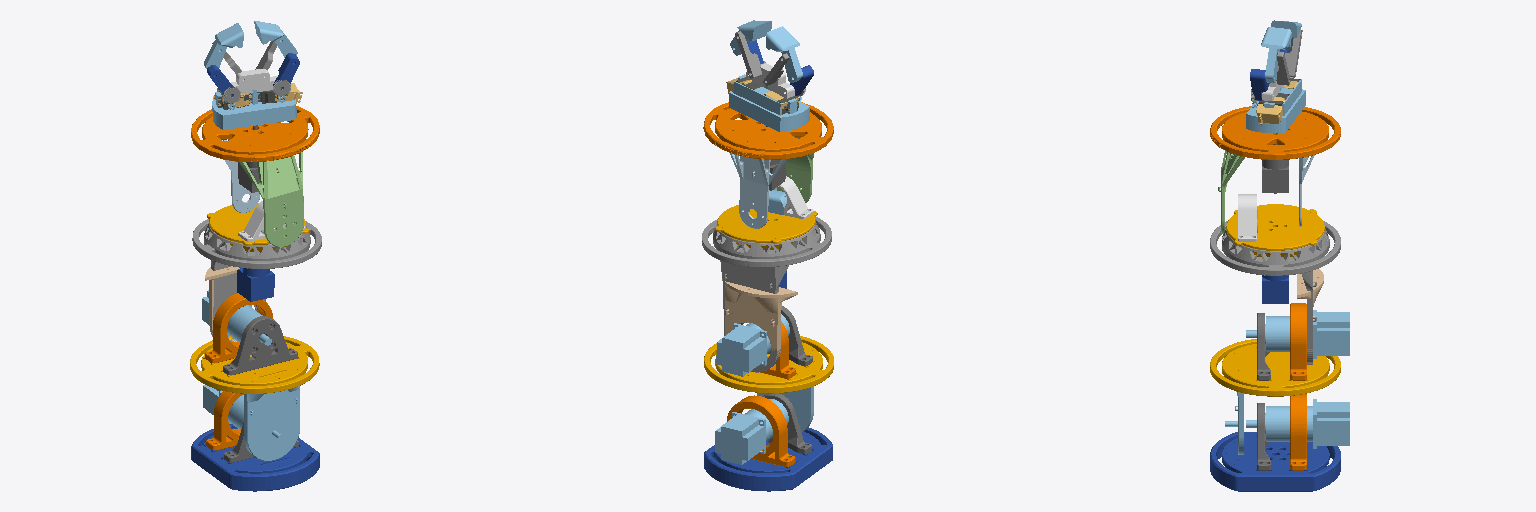
--- Render facts (derived) ---
Views: 3 orthographic renders of the robot side by side, from view 1: azimuth 30°, elevation 25°; view 2: azimuth 150°, elevation 25°; view 3: azimuth 270°, elevation 25°.
Model robot with 11 links and 10 joints (8 revolute, 2 fixed), rooted at world, posed every joint at zero.
Links seen in each view (by area): view 1: ob1_arm_shoulder_link, ob1_arm_forearm_link, ob1_arm_base_link, ob1_arm_arm_link, ob1_arm_gripper_base_link, ob1_arm_elbow_link, ob1_arm_rclaw_link, ob1_arm_lclaw_link; view 2: ob1_arm_shoulder_link, ob1_arm_base_link, ob1_arm_forearm_link, ob1_arm_arm_link, ob1_arm_gripper_base_link, ob1_arm_elbow_link, ob1_arm_lclaw_link, ob1_arm_rclaw_link; view 3: ob1_arm_base_link, ob1_arm_shoulder_link, ob1_arm_forearm_link, ob1_arm_arm_link, ob1_arm_elbow_link, ob1_arm_gripper_base_link, ob1_arm_rclaw_link, ob1_arm_lclaw_link.
Link boxes in pixels (x1,y1,x2,y2): ob1_arm_shoulder_link: [190, 266, 319, 460]; ob1_arm_forearm_link: [191, 106, 319, 246]; ob1_arm_base_link: [191, 385, 319, 491]; ob1_arm_arm_link: [192, 219, 321, 341]; ob1_arm_gripper_base_link: [212, 69, 302, 129]; ob1_arm_elbow_link: [207, 201, 308, 251]; ob1_arm_rclaw_link: [254, 21, 299, 89]; ob1_arm_lclaw_link: [204, 23, 243, 96]; ob1_arm_shoulder_link: [704, 279, 833, 432]; ob1_arm_base_link: [704, 393, 832, 491]; ob1_arm_forearm_link: [703, 102, 833, 228]; ob1_arm_arm_link: [702, 217, 831, 372]; ob1_arm_gripper_base_link: [726, 61, 809, 131]; ob1_arm_elbow_link: [715, 176, 817, 249]; ob1_arm_lclaw_link: [763, 26, 813, 95]; ob1_arm_rclaw_link: [730, 20, 771, 78]; ob1_arm_base_link: [1210, 394, 1349, 491]; ob1_arm_shoulder_link: [1210, 269, 1349, 454]; ob1_arm_forearm_link: [1210, 106, 1340, 233]; ob1_arm_arm_link: [1210, 221, 1340, 364]; ob1_arm_elbow_link: [1226, 194, 1324, 256]; ob1_arm_gripper_base_link: [1246, 77, 1305, 133]; ob1_arm_rclaw_link: [1250, 27, 1291, 100]; ob1_arm_lclaw_link: [1271, 20, 1302, 77].
Size in the robot's own frame: 0.2045 by 0.2135 by 0.7468 metres.
Meshes: 33 distinct files referenced, 37 mesh visuals loaded (32 binary STL); not drawn: 1 (reference not matched to a file when rendering).

URDF robot description (robot):
<?xml version="1.0" ?>
<!-- =================================================================================== -->
<!-- |    This document was autogenerated by xacro from [local-path]/UBCOpenRobotics/ob1_arm/src/ob1_arm_description/urdf/main.xacro | -->
<!-- |    EDITING THIS FILE BY HAND IS NOT RECOMMENDED                                 | -->
<!-- =================================================================================== -->
<robot name="robot">
    <link name="ob1_arm_fixed_base_link">
        <inertial>
            <origin rpy="0 0 0" xyz="0 0 0" />
            <mass value="0" />
            <inertia ixx="0" ixy="0" ixz="0" iyy="0" iyz="0" izz="0" />
        </inertial>
    </link>
    <link name="ob1_arm_base_link">
        <visual>
            <origin rpy="-1.5708 1.21431e-16 3.90606e-18" xyz="3.31402e-16 -0.0195 0.06" />
            <geometry>
                <mesh filename="package://ob1_arm_description/meshes/shoulder_y_motor.stl" />
            </geometry>
            <material name="shoulder_y_motor_material">
                <color rgba="0.615686 0.811765 0.929412 1.0" />
            </material>
        </visual>
        <collision>
            <origin rpy="-1.5708 1.21431e-16 3.90606e-18" xyz="3.31402e-16 -0.0195 0.06" />
            <geometry>
                <mesh filename="package://ob1_arm_description/meshes/shoulder_y_motor.stl" />
            </geometry>
            <material name="shoulder_y_motor_material">
                <color rgba="0.615686 0.811765 0.929412 1.0" />
            </material>
        </collision>
        <visual>
            <origin rpy="-1.5708 1.2013e-16 2.92997e-21" xyz="1.33481e-16 -0.0195 0.06" />
            <geometry>
                <mesh filename="package://ob1_arm_description/meshes/shoulder_plate.stl" />
            </geometry>
            <material name="shoulder_plate_material">
                <color rgba="0.231373 0.380392 0.705882 1.0" />
            </material>
        </visual>
        <collision>
            <origin rpy="-1.5708 1.2013e-16 2.92997e-21" xyz="1.33481e-16 -0.0195 0.06" />
            <geometry>
                <mesh filename="package://ob1_arm_description/meshes/shoulder_plate.stl" />
            </geometry>
            <material name="shoulder_plate_material">
                <color rgba="0.231373 0.380392 0.705882 1.0" />
            </material>
        </collision>
        <visual>
            <origin rpy="-1.5708 1.20997e-16 7.25353e-18" xyz="3.46418e-16 -0.0195 0.06" />
            <geometry>
                <mesh filename="package://ob1_arm_description/meshes/motor_front_support_-_shoulder.stl" />
            </geometry>
            <material name="motor_front_support_-_shoulder_material">
                <color rgba="0.498039 0.498039 0.498039 1.0" />
            </material>
        </visual>
        <collision>
            <origin rpy="-1.5708 1.20997e-16 7.25353e-18" xyz="3.46418e-16 -0.0195 0.06" />
            <geometry>
                <mesh filename="package://ob1_arm_description/meshes/motor_front_support_-_shoulder.stl" />
            </geometry>
            <material name="motor_front_support_-_shoulder_material">
                <color rgba="0.498039 0.498039 0.498039 1.0" />
            </material>
        </collision>
        <visual>
            <origin rpy="-1.5708 1.2013e-16 2.92997e-21" xyz="-6.34937e-17 -0.0195 0.06" />
            <geometry>
                <mesh filename="package://ob1_arm_description/meshes/motor_mid_support_-_shoulder.stl" />
            </geometry>
            <material name="motor_mid_support_-_shoulder_material">
                <color rgba="0.972549 0.529412 0.00392157 1.0" />
            </material>
        </visual>
        <collision>
            <origin rpy="-1.5708 1.2013e-16 2.92997e-21" xyz="-6.34937e-17 -0.0195 0.06" />
            <geometry>
                <mesh filename="package://ob1_arm_description/meshes/motor_mid_support_-_shoulder.stl" />
            </geometry>
            <material name="motor_mid_support_-_shoulder_material">
                <color rgba="0.972549 0.529412 0.00392157 1.0" />
            </material>
        </collision>
        <inertial>
            <origin rpy="0 0 0" xyz="0 0 0" />
            <mass value="0" />
            <inertia ixx="0" ixy="0" ixz="0" iyy="0" iyz="0" izz="0" />
        </inertial>
    </link>
    <link name="ob1_arm_shoulder_link">
        <visual>
            <origin rpy="3.14159 -2.02376e-31 3.10097e-18" xyz="-2.59124e-17 0.15 0.067" />
            <geometry>
                <mesh filename="package://ob1_arm_description/meshes/shoulder_linkage_-_motor.stl" />
            </geometry>
            <material name="shoulder_linkage_-_motor_material">
                <color rgba="0.921569 0.8 0.654902 1.0" />
            </material>
        </visual>
        <collision>
            <origin rpy="3.14159 -2.02376e-31 3.10097e-18" xyz="-2.59124e-17 0.15 0.067" />
            <geometry>
                <mesh filename="package://ob1_arm_description/meshes/shoulder_linkage_-_motor.stl" />
            </geometry>
            <material name="shoulder_linkage_-_motor_material">
                <color rgba="0.921569 0.8 0.654902 1.0" />
            </material>
        </collision>
        <visual>
            <origin rpy="-3.14159 6.26309e-30 3.30936e-16" xyz="8.79071e-16 6.245e-16 0.067" />
            <geometry>
                <mesh filename="package://ob1_arm_description/meshes/bicep_y_motor.stl" />
            </geometry>
            <material name="bicep_y_motor_material">
                <color rgba="0.615686 0.811765 0.929412 1.0" />
            </material>
        </visual>
        <collision>
            <origin rpy="-3.14159 6.26309e-30 3.30936e-16" xyz="8.79071e-16 6.245e-16 0.067" />
            <geometry>
                <mesh filename="package://ob1_arm_description/meshes/bicep_y_motor.stl" />
            </geometry>
            <material name="bicep_y_motor_material">
                <color rgba="0.615686 0.811765 0.929412 1.0" />
            </material>
        </collision>
        <visual>
            <origin rpy="-3.14159 1.39936e-30 -2.98503e-17" xyz="1.03715e-15 1.04083e-15 0.067" />
            <geometry>
                <mesh filename="package://ob1_arm_description/meshes/motor_front_support_-_bicep.stl" />
            </geometry>
            <material name="motor_front_support_-_bicep_material">
                <color rgba="0.498039 0.498039 0.498039 1.0" />
            </material>
        </visual>
        <collision>
            <origin rpy="-3.14159 1.39936e-30 -2.98503e-17" xyz="1.03715e-15 1.04083e-15 0.067" />
            <geometry>
                <mesh filename="package://ob1_arm_description/meshes/motor_front_support_-_bicep.stl" />
            </geometry>
            <material name="motor_front_support_-_bicep_material">
                <color rgba="0.498039 0.498039 0.498039 1.0" />
            </material>
        </collision>
        <visual>
            <origin rpy="-3.14159 1.84829e-30 -7.32146e-17" xyz="1.05677e-15 1.06859e-15 0.067" />
            <geometry>
                <mesh filename="package://ob1_arm_description/meshes/bicep_plate_-_real.stl" />
            </geometry>
            <material name="bicep_plate_-_real_material">
                <color rgba="0.980392 0.713725 0.00392157 1.0" />
            </material>
        </visual>
        <collision>
            <origin rpy="-3.14159 1.84829e-30 -7.32146e-17" xyz="1.05677e-15 1.06859e-15 0.067" />
            <geometry>
                <mesh filename="package://ob1_arm_description/meshes/bicep_plate_-_real.stl" />
            </geometry>
            <material name="bicep_plate_-_real_material">
                <color rgba="0.980392 0.713725 0.00392157 1.0" />
            </material>
        </collision>
        <visual>
            <origin rpy="-3.14159 1.97023e-30 1.36668e-16" xyz="9.52797e-16 9.57567e-16 0.067" />
            <geometry>
                <mesh filename="package://ob1_arm_description/meshes/shoulder_linkage_-_encoder.stl" />
            </geometry>
            <material name="shoulder_linkage_-_encoder_material">
                <color rgba="0.615686 0.811765 0.929412 1.0" />
            </material>
        </visual>
        <collision>
            <origin rpy="-3.14159 1.97023e-30 1.36668e-16" xyz="9.52797e-16 9.57567e-16 0.067" />
            <geometry>
                <mesh filename="package://ob1_arm_description/meshes/shoulder_linkage_-_encoder.stl" />
            </geometry>
            <material name="shoulder_linkage_-_encoder_material">
                <color rgba="0.615686 0.811765 0.929412 1.0" />
            </material>
        </collision>
        <visual>
            <origin rpy="-3.14159 2.70566e-31 -7.32146e-17" xyz="1.11651e-15 1.05471e-15 0.067" />
            <geometry>
                <mesh filename="package://ob1_arm_description/meshes/motor_mid_support_-_bicep.stl" />
            </geometry>
            <material name="motor_mid_support_-_bicep_material">
                <color rgba="0.972549 0.529412 0.00392157 1.0" />
            </material>
        </visual>
        <collision>
            <origin rpy="-3.14159 2.70566e-31 -7.32146e-17" xyz="1.11651e-15 1.05471e-15 0.067" />
            <geometry>
                <mesh filename="package://ob1_arm_description/meshes/motor_mid_support_-_bicep.stl" />
            </geometry>
            <material name="motor_mid_support_-_bicep_material">
                <color rgba="0.972549 0.529412 0.00392157 1.0" />
            </material>
        </collision>
        <inertial>
            <origin rpy="0 0 0" xyz="0 0 0" />
            <mass value="0" />
            <inertia ixx="0" ixy="0" ixz="0" iyy="0" iyz="0" izz="0" />
        </inertial>
    </link>
    <link name="ob1_arm_arm_link">
        <visual>
            <origin rpy="-3.14159 0.18918 1.80411e-15" xyz="0.00366704 -1.27676e-15 0.0666521" />
            <geometry>
                <mesh filename="package://ob1_arm_description/meshes/forearm_z_motor_shaft_collar_-_9604t12_flange-mount_shaft_collar.stl" />
            </geometry>
            <material name="forearm_z_motor_shaft_collar_-_9604t12_flange-mount_shaft_collar_material">
                <color rgba="0.498039 0.498039 0.498039 1.0" />
            </material>
        </visual>
        <collision>
            <origin rpy="-3.14159 0.18918 1.80411e-15" xyz="0.00366704 -1.27676e-15 0.0666521" />
            <geometry>
                <mesh filename="package://ob1_arm_description/meshes/forearm_z_motor_shaft_collar_-_9604t12_flange-mount_shaft_collar.stl" />
            </geometry>
            <material name="forearm_z_motor_shaft_collar_-_9604t12_flange-mount_shaft_collar_material">
                <color rgba="0.498039 0.498039 0.498039 1.0" />
            </material>
        </collision>
        <visual>
            <origin rpy="-3.14159 2.13756e-29 -1.6944e-16" xyz="-2.13371e-15 -1.38778e-16 0.067" />
            <geometry>
                <mesh filename="package://ob1_arm_description/meshes/bicep_z_motor.stl" />
            </geometry>
            <material name="bicep_z_motor_material">
                <color rgba="0.231373 0.380392 0.705882 1.0" />
            </material>
        </visual>
        <collision>
            <origin rpy="-3.14159 2.13756e-29 -1.6944e-16" xyz="-2.13371e-15 -1.38778e-16 0.067" />
            <geometry>
                <mesh filename="package://ob1_arm_description/meshes/bicep_z_motor.stl" />
            </geometry>
            <material name="bicep_z_motor_material">
                <color rgba="0.231373 0.380392 0.705882 1.0" />
            </material>
        </collision>
        <visual>
            <origin rpy="-3.14159 2.13756e-29 -1.6944e-16" xyz="-2.12851e-15 8.04912e-16 0.067" />
            <geometry>
                <mesh filename="package://ob1_arm_description/meshes/bicep_linkage_-_encoder.stl" />
            </geometry>
            <material name="bicep_linkage_-_encoder_material">
                <color rgba="0.768627 0.886275 0.952941 1.0" />
            </material>
        </visual>
        <collision>
            <origin rpy="-3.14159 2.13756e-29 -1.6944e-16" xyz="-2.12851e-15 8.04912e-16 0.067" />
            <geometry>
                <mesh filename="package://ob1_arm_description/meshes/bicep_linkage_-_encoder.stl" />
            </geometry>
            <material name="bicep_linkage_-_encoder_material">
                <color rgba="0.768627 0.886275 0.952941 1.0" />
            </material>
        </collision>
        <visual>
            <origin rpy="-3.14159 -8.22245e-32 -2.84672e-18" xyz="1.73472e-18 -2.77556e-17 0.067" />
            <geometry>
                <mesh filename="package://ob1_arm_description/meshes/bicep_linkage_-_motor.stl" />
            </geometry>
            <material name="bicep_linkage_-_motor_material">
                <color rgba="0.647059 0.647059 0.647059 1.0" />
            </material>
        </visual>
        <collision>
            <origin rpy="-3.14159 -8.22245e-32 -2.84672e-18" xyz="1.73472e-18 -2.77556e-17 0.067" />
            <geometry>
                <mesh filename="package://ob1_arm_description/meshes/bicep_linkage_-_motor.stl" />
            </geometry>
            <material name="bicep_linkage_-_motor_material">
                <color rgba="0.647059 0.647059 0.647059 1.0" />
            </material>
        </collision>
        <visual>
            <origin rpy="-3.14159 3.58504e-30 -7.91075e-17" xyz="-2.0834e-15 2.02616e-15 0.067" />
            <geometry>
                <mesh filename="package://ob1_arm_description/meshes/forearm_plate.stl" />
            </geometry>
            <material name="forearm_plate_material">
                <color rgba="0.647059 0.647059 0.647059 1.0" />
            </material>
        </visual>
        <collision>
            <origin rpy="-3.14159 3.58504e-30 -7.91075e-17" xyz="-2.0834e-15 2.02616e-15 0.067" />
            <geometry>
                <mesh filename="package://ob1_arm_description/meshes/forearm_plate.stl" />
            </geometry>
            <material name="forearm_plate_material">
                <color rgba="0.647059 0.647059 0.647059 1.0" />
            </material>
        </collision>
        <inertial>
            <origin rpy="0 0 0" xyz="0 0 0" />
            <mass value="0" />
            <inertia ixx="0" ixy="0" ixz="0" iyy="0" iyz="0" izz="0" />
        </inertial>
    </link>
    <link name="ob1_arm_elbow_link">
        <visual>
            <origin rpy="1.5708 2.04915e-16 7.13982e-16" xyz="-1.14492e-16 0.0195 0.18" />
            <geometry>
                <mesh filename="package://ob1_arm_description/meshes/forearm_motor_support.stl" />
            </geometry>
            <material name="forearm_motor_support_material">
                <color rgba="0.917647 0.917647 0.917647 1.0" />
            </material>
        </visual>
        <collision>
            <origin rpy="1.5708 2.04915e-16 7.13982e-16" xyz="-1.14492e-16 0.0195 0.18" />
            <geometry>
                <mesh filename="package://ob1_arm_description/meshes/forearm_motor_support.stl" />
            </geometry>
            <material name="forearm_motor_support_material">
                <color rgba="0.917647 0.917647 0.917647 1.0" />
            </material>
        </collision>
        <visual>
            <origin rpy="1.5708 4.02585e-18 2.26158e-19" xyz="-1.56125e-17 0.0195 0.18" />
            <geometry>
                <mesh filename="package://ob1_arm_description/meshes/forearm_intermediate_plate.stl" />
            </geometry>
            <material name="forearm_intermediate_plate_material">
                <color rgba="0.980392 0.713725 0.00392157 1.0" />
            </material>
        </visual>
        <collision>
            <origin rpy="1.5708 4.02585e-18 2.26158e-19" xyz="-1.56125e-17 0.0195 0.18" />
            <geometry>
                <mesh filename="package://ob1_arm_description/meshes/forearm_intermediate_plate.stl" />
            </geometry>
            <material name="forearm_intermediate_plate_material">
                <color rgba="0.980392 0.713725 0.00392157 1.0" />
            </material>
        </collision>
        <visual>
            <origin rpy="1.5708 1.05794e-15 1.82583e-15" xyz="7.32053e-16 0.05285 -0.03115" />
            <geometry>
                <mesh filename="package://ob1_arm_description/meshes/part_1.stl" />
            </geometry>
            <material name="part_1_material">
                <color rgba="0.615686 0.811765 0.929412 1.0" />
            </material>
        </visual>
        <collision>
            <origin rpy="1.5708 1.05794e-15 1.82583e-15" xyz="7.32053e-16 0.05285 -0.03115" />
            <geometry>
                <mesh filename="package://ob1_arm_description/meshes/part_1.stl" />
            </geometry>
            <material name="part_1_material">
                <color rgba="0.615686 0.811765 0.929412 1.0" />
            </material>
        </collision>
        <inertial>
            <origin rpy="0 0 0" xyz="0 0 0" />
            <mass value="0" />
            <inertia ixx="0" ixy="0" ixz="0" iyy="0" iyz="0" izz="0" />
        </inertial>
    </link>
    <link name="ob1_arm_forearm_link">
        <visual>
            <origin rpy="1.44226e-20 3.73615e-17 2.30593e-17" xyz="-1.43635e-15 0.21115 0.06335" />
            <geometry>
                <mesh filename="package://ob1_arm_description/meshes/end_effector_plate.stl" />
            </geometry>
            <material name="end_effector_plate_material">
                <color rgba="0.972549 0.529412 0.00392157 1.0" />
            </material>
        </visual>
        <collision>
            <origin rpy="1.44226e-20 3.73615e-17 2.30593e-17" xyz="-1.43635e-15 0.21115 0.06335" />
            <geometry>
                <mesh filename="package://ob1_arm_description/meshes/end_effector_plate.stl" />
            </geometry>
            <material name="end_effector_plate_material">
                <color rgba="0.972549 0.529412 0.00392157 1.0" />
            </material>
        </collision>
        <visual>
            <origin rpy="-1.61808e-19 9.63599e-17 2.17225e-16" xyz="1.5786e-15 0.21115 0.06335" />
            <geometry>
                <mesh filename="package://ob1_arm_description/meshes/forearm_linkage_-_encoder.stl" />
            </geometry>
            <material name="forearm_linkage_-_encoder_material">
                <color rgba="0.768627 0.886275 0.952941 1.0" />
            </material>
        </visual>
        <collision>
            <origin rpy="-1.61808e-19 9.63599e-17 2.17225e-16" xyz="1.5786e-15 0.21115 0.06335" />
            <geometry>
                <mesh filename="package://ob1_arm_description/meshes/forearm_linkage_-_encoder.stl" />
            </geometry>
            <material name="forearm_linkage_-_encoder_material">
                <color rgba="0.768627 0.886275 0.952941 1.0" />
            </material>
        </collision>
        <visual>
            <origin rpy="2.64017e-20 6.23759e-20 2.25943e-18" xyz="-1.04083e-17 0.21115 0.06335" />
            <geometry>
                <mesh filename="package://ob1_arm_description/meshes/forearm_linkage_-_motor.stl" />
            </geometry>
            <material name="forearm_linkage_-_motor_material">
                <color rgba="0.654902 0.823529 0.576471 1.0" />
            </material>
        </visual>
        <collision>
            <origin rpy="2.64017e-20 6.23759e-20 2.25943e-18" xyz="-1.04083e-17 0.21115 0.06335" />
            <geometry>
                <mesh filename="package://ob1_arm_description/meshes/forearm_linkage_-_motor.stl" />
            </geometry>
            <material name="forearm_linkage_-_motor_material">
                <color rgba="0.654902 0.823529 0.576471 1.0" />
            </material>
        </collision>
        <visual>
            <origin rpy="-2.34386e-19 3.24406e-16 6.50284e-17" xyz="4.17721e-15 0.21115 0.06335" />
            <geometry>
                <mesh filename="package://ob1_arm_description/meshes/wrist_z_motor.stl" />
            </geometry>
            <material name="wrist_z_motor_material">
                <color rgba="0.498039 0.498039 0.498039 1.0" />
            </material>
        </visual>
        <collision>
            <origin rpy="-2.34386e-19 3.24406e-16 6.50284e-17" xyz="4.17721e-15 0.21115 0.06335" />
            <geometry>
                <mesh filename="package://ob1_arm_description/meshes/wrist_z_motor.stl" />
            </geometry>
            <material name="wrist_z_motor_material">
                <color rgba="0.498039 0.498039 0.498039 1.0" />
            </material>
        </collision>
        <inertial>
            <origin rpy="0 0 0" xyz="0 0 0" />
            <mass value="0" />
            <inertia ixx="0" ixy="0" ixz="0" iyy="0" iyz="0" izz="0" />
        </inertial>
    </link>
    <joint name="ob1_arm_elbow_forearm_joint" type="revolute">
        <origin rpy="1.5708 0.0729385 1.34977e-15" xyz="7.71952e-16 0.08285 -0.03115" />
        <parent link="ob1_arm_elbow_link" />
        <child link="ob1_arm_forearm_link" />
        <axis xyz="0 0 1" />
        <limit effort="1" lower="-1.5787" upper="1.5787" velocity="20" />
        <joint_properties friction="0.0" />
        <dynamics D="1" K="7000" damping="0.003" friction="0.0" mu_coulomb="0" mu_viscous="16" />
    </joint>
    <joint name="ob1_arm_arm_elbow_joint" type="revolute">
        <origin rpy="1.5708 0.00373826 -5.38613e-15" xyz="-1.33227e-15 0.18 0.0475" />
        <parent link="ob1_arm_arm_link" />
        <child link="ob1_arm_elbow_link" />
        <axis xyz="0 0 1" />
        <limit effort="1" lower="-3.14" upper="3.14" velocity="20" />
        <joint_properties friction="0.0" />
        <dynamics D="1" K="7000" damping="0.003" friction="0.0" mu_coulomb="0" mu_viscous="16" />
    </joint>
    <joint name="ob1_arm_shoulder_arm_joint" type="revolute">
        <origin rpy="8.20328e-16 -1.37552e-14 -0.046259" xyz="2.90241e-16 0.15 -7.97973e-16" />
        <parent link="ob1_arm_shoulder_link" />
        <child link="ob1_arm_arm_link" />
        <axis xyz="0 0 1" />
        <limit effort="1" lower="-1.5787" upper="1.5787" velocity="20" />
        <joint_properties friction="0.0" />
        <dynamics D="1" K="7000" damping="0.003" friction="0.0" mu_coulomb="0" mu_viscous="16" />
    </joint>
    <joint name="ob1_arm_base_shoulder_joint" type="revolute">
        <origin rpy="1.5708 -0.0134839 4.87562e-15" xyz="8.1532e-17 0.0475 0.06" />
        <parent link="ob1_arm_base_link" />
        <child link="ob1_arm_shoulder_link" />
        <axis xyz="0 0 1" />
        <limit effort="1" lower="-1.5787" upper="1.5787" velocity="20" />
        <joint_properties friction="0.0" />
        <dynamics D="1" K="7000" damping="0.003" friction="0.0" mu_coulomb="0" mu_viscous="16" />
    </joint>
    <joint name="ob1_arm_fixed_base_joint" type="revolute">
        <origin rpy="0 0 0" xyz="0 0 0" />
        <parent link="ob1_arm_fixed_base_link" />
        <child link="ob1_arm_base_link" />
        <axis xyz="0 0 1" />
        <limit effort="1" lower="-3.14" upper="3.14" velocity="20" />
        <joint_properties friction="0.0" />
        <dynamics D="1" K="7000" damping="0.003" friction="0.0" mu_coulomb="0" mu_viscous="16" />
    </joint>
    <link name="ob1_arm_gripper_base_link">
        <visual>
            <origin rpy="-1.31921 -1.52407 -0.251324" xyz="-0.04015 0.0144875 -0.0347028" />
            <geometry>
                <mesh filename="package://ob1_arm_description/meshes/hk15328d_v5.stl" />
            </geometry>
            <material name="hk15328d_v5_material">
                <color rgba="0.952941 0.796078 0.486275 1.0" />
            </material>
        </visual>
        <collision>
            <origin rpy="-1.31921 -1.52407 -0.251324" xyz="-0.04015 0.0144875 -0.0347028" />
            <geometry>
                <mesh filename="package://ob1_arm_description/meshes/hk15328d_v5.stl" />
            </geometry>
            <material name="hk15328d_v5_material">
                <color rgba="0.952941 0.796078 0.486275 1.0" />
            </material>
        </collision>
        <visual>
            <origin rpy="0.251587 -1.52407 -0.251324" xyz="-0.04015 0.0239869 -0.0345924" />
            <geometry>
                <mesh filename="package://ob1_arm_description/meshes/spur_gear_(16_teeth).stl" />
            </geometry>
            <material name="spur_gear_(16_teeth)_material">
                <color rgba="0.615686 0.811765 0.929412 1.0" />
            </material>
        </visual>
        <collision>
            <origin rpy="0.251587 -1.52407 -0.251324" xyz="-0.04015 0.0239869 -0.0345924" />
            <geometry>
                <mesh filename="package://ob1_arm_description/meshes/spur_gear_(16_teeth).stl" />
            </geometry>
            <material name="spur_gear_(16_teeth)_material">
                <color rgba="0.615686 0.811765 0.929412 1.0" />
            </material>
        </collision>
        <visual>
            <origin rpy="-3.14159 -0.174533 4.4254e-17" xyz="-0.04 0.019 -0.0535151" />
            <geometry>
                <mesh filename="package://ob1_arm_description/meshes/spur_gear_(36_teeth).stl" />
            </geometry>
            <material name="spur_gear_(36_teeth)_material">
                <color rgba="0.647059 0.647059 0.647059 1.0" />
            </material>
        </visual>
        <collision>
            <origin rpy="-3.14159 -0.174533 4.4254e-17" xyz="-0.04 0.019 -0.0535151" />
            <geometry>
                <mesh filename="package://ob1_arm_description/meshes/spur_gear_(36_teeth).stl" />
            </geometry>
            <material name="spur_gear_(36_teeth)_material">
                <color rgba="0.647059 0.647059 0.647059 1.0" />
            </material>
        </collision>
        <visual>
            <origin rpy="-3.14159 1.01857e-14 5.54818e-17" xyz="6.93889e-18 -8.67362e-19 -1.77636e-15" />
            <geometry>
                <mesh filename="package://ob1_arm_description/meshes/part_2_gripper.stl" />
            </geometry>
            <material name="part_2_gripper_material">
                <color rgba="0.917647 0.917647 0.917647 1.0" />
            </material>
        </visual>
        <collision>
            <origin rpy="-3.14159 1.01857e-14 5.54818e-17" xyz="6.93889e-18 -8.67362e-19 -1.77636e-15" />
            <geometry>
                <mesh filename="package://ob1_arm_description/meshes/part_2_gripper.stl" />
            </geometry>
            <material name="part_2_gripper_material">
                <color rgba="0.917647 0.917647 0.917647 1.0" />
            </material>
        </collision>
        <visual>
            <origin rpy="3.10536 -1.244 -3.10728" xyz="0.04015 0.0239869 -0.0345924" />
            <geometry>
                <mesh filename="package://ob1_arm_description/meshes/spur_gear_(16_teeth).stl" />
            </geometry>
            <material name="spur_gear_(16_teeth)_material">
                <color rgba="0.615686 0.811765 0.929412 1.0" />
            </material>
        </visual>
        <collision>
            <origin rpy="3.10536 -1.244 -3.10728" xyz="0.04015 0.0239869 -0.0345924" />
            <geometry>
                <mesh filename="package://ob1_arm_description/meshes/spur_gear_(16_teeth).stl" />
            </geometry>
            <material name="spur_gear_(16_teeth)_material">
                <color rgba="0.615686 0.811765 0.929412 1.0" />
            </material>
        </collision>
        <visual>
            <origin rpy="1.10827e-14 1.0192e-14 1.02561e-16" xyz="0.04 0.024 -0.0535151" />
            <geometry>
                <mesh filename="package://ob1_arm_description/meshes/spur_gear_(36_teeth).stl" />
            </geometry>
            <material name="spur_gear_(36_teeth)_material">
                <color rgba="0.647059 0.647059 0.647059 1.0" />
            </material>
        </visual>
        <collision>
            <origin rpy="1.10827e-14 1.0192e-14 1.02561e-16" xyz="0.04 0.024 -0.0535151" />
            <geometry>
                <mesh filename="package://ob1_arm_description/meshes/spur_gear_(36_teeth).stl" />
            </geometry>
            <material name="spur_gear_(36_teeth)_material">
                <color rgba="0.647059 0.647059 0.647059 1.0" />
            </material>
        </collision>
        <visual>
            <origin rpy="1.53457 -1.244 -3.10728" xyz="0.04015 0.0144875 -0.0347028" />
            <geometry>
                <mesh filename="package://ob1_arm_description/meshes/hk15328d_v5.stl" />
            </geometry>
            <material name="hk15328d_v5_material">
                <color rgba="0.952941 0.796078 0.486275 1.0" />
            </material>
        </visual>
        <collision>
            <origin rpy="1.53457 -1.244 -3.10728" xyz="0.04015 0.0144875 -0.0347028" />
            <geometry>
                <mesh filename="package://ob1_arm_description/meshes/hk15328d_v5.stl" />
            </geometry>
            <material name="hk15328d_v5_material">
                <color rgba="0.952941 0.796078 0.486275 1.0" />
            </material>
        </collision>
        <visual>
            <origin rpy="8.11517e-13 1.55917 1.5708" xyz="0.04015 0.0144875 -0.0347028" />
            <geometry>
                <mesh filename="package://ob1_arm_description/meshes/hk15328d_v5.stl" />
            </geometry>
            <material name="hk15328d_v5_material">
                <color rgba="0.392157 0.403922 0.384314 1.0" />
            </material>
        </visual>
        <collision>
            <origin rpy="8.11517e-13 1.55917 1.5708" xyz="0.04015 0.0144875 -0.0347028" />
            <geometry>
                <mesh filename="package://ob1_arm_description/meshes/hk15328d_v5.stl" />
            </geometry>
            <material name="hk15328d_v5_material">
                <color rgba="0.392157 0.403922 0.384314 1.0" />
            </material>
        </collision>
        <visual>
            <origin rpy="-1.23792e-12 -1.55917 -1.5708" xyz="-0.04015 0.0144875 -0.0347028" />
            <geometry>
                <mesh filename="package://ob1_arm_description/meshes/hk15328d_v5.stl" />
            </geometry>
            <material name="hk15328d_v5_material">
                <color rgba="0.392157 0.403922 0.384314 1.0" />
            </material>
        </visual>
        <collision>
            <origin rpy="-1.23792e-12 -1.55917 -1.5708" xyz="-0.04015 0.0144875 -0.0347028" />
            <geometry>
                <mesh filename="package://ob1_arm_description/meshes/hk15328d_v5.stl" />
            </geometry>
            <material name="hk15328d_v5_material">
                <color rgba="0.392157 0.403922 0.384314 1.0" />
            </material>
        </collision>
        <visual>
            <origin rpy="3.14159 -6.62591e-19 -1.44439e-17" xyz="3.46945e-18 -8.67362e-19 -1.11022e-16" />
            <geometry>
                <mesh filename="package://ob1_arm_description/meshes/part_1_gripper.stl" />
            </geometry>
            <material name="part_1_gripper_material">
                <color rgba="0.615686 0.811765 0.929412 1.0" />
            </material>
        </visual>
        <collision>
            <origin rpy="3.14159 -6.62591e-19 -1.44439e-17" xyz="3.46945e-18 -8.67362e-19 -1.11022e-16" />
            <geometry>
                <mesh filename="package://ob1_arm_description/meshes/part_1_gripper.stl" />
            </geometry>
            <material name="part_1_gripper_material">
                <color rgba="0.615686 0.811765 0.929412 1.0" />
            </material>
        </collision>
        <inertial>
            <origin rpy="0 0 0" xyz="0 0 0" />
            <mass value="0" />
            <inertia ixx="0" ixy="0" ixz="0" iyy="0" iyz="0" izz="0" />
        </inertial>
    </link>
    <link name="ob1_arm_rclaw_link">
        <visual>
            <origin rpy="1.5708 -1.32447e-15 0.332485" xyz="-0.0203388 -0.0331036 0.037" />
            <geometry>
                <mesh filename="package://ob1_arm_description/meshes/part_1_mirror_gripper_claw.stl" />
            </geometry>
            <material name="part_1_mirror_gripper_claw_material">
                <color rgba="0.615686 0.811765 0.929412 1.0" />
            </material>
        </visual>
        <collision>
            <origin rpy="1.5708 -1.32447e-15 0.332485" xyz="-0.0203388 -0.0331036 0.037" />
            <geometry>
                <mesh filename="package://ob1_arm_description/meshes/part_1_mirror_gripper_claw.stl" />
            </geometry>
            <material name="part_1_mirror_gripper_claw_material">
                <color rgba="0.615686 0.811765 0.929412 1.0" />
            </material>
        </collision>
        <visual>
            <origin rpy="1.5708 2.79276e-18 -8.04372e-17" xyz="0.0106217 -0.0304372 0.012" />
            <geometry>
                <mesh filename="package://ob1_arm_description/meshes/part_3_mirror_gripper_claw.stl" />
            </geometry>
            <material name="part_3_mirror_gripper_claw_material">
                <color rgba="0.231373 0.380392 0.705882 1.0" />
            </material>
        </visual>
        <collision>
            <origin rpy="1.5708 2.79276e-18 -8.04372e-17" xyz="0.0106217 -0.0304372 0.012" />
            <geometry>
                <mesh filename="package://ob1_arm_description/meshes/part_3_mirror_gripper_claw.stl" />
            </geometry>
            <material name="part_3_mirror_gripper_claw_material">
                <color rgba="0.231373 0.380392 0.705882 1.0" />
            </material>
        </collision>
        <visual>
            <origin rpy="-1.5708 -5.46252e-16 -1.22447" xyz="0.0114671 -0.0521066 0.013" />
            <geometry>
                <mesh filename="package://ob1_arm_description/meshes/part_2_mirror_gripper_claw.stl" />
            </geometry>
            <material name="part_2_mirror_gripper_claw_material">
                <color rgba="0.647059 0.647059 0.647059 1.0" />
            </material>
        </visual>
        <collision>
            <origin rpy="-1.5708 -5.46252e-16 -1.22447" xyz="0.0114671 -0.0521066 0.013" />
            <geometry>
                <mesh filename="package://ob1_arm_description/meshes/part_2_mirror_gripper_claw.stl" />
            </geometry>
            <material name="part_2_mirror_gripper_claw_material">
                <color rgba="0.647059 0.647059 0.647059 1.0" />
            </material>
        </collision>
        <inertial>
            <origin rpy="0 0 0" xyz="0 0 0" />
            <mass value="0" />
            <inertia ixx="0" ixy="0" ixz="0" iyy="0" iyz="0" izz="0" />
        </inertial>
    </link>
    <link name="ob1_arm_lclaw_link">
        <visual>
            <origin rpy="-1.5708 -3.1668e-17 1.26775" xyz="-0.00826547 -0.051955 0.013" />
            <geometry>
                <mesh filename="package://ob1_arm_description/meshes/part_2_gripper_claw.stl" />
            </geometry>
            <material name="part_2_gripper_claw_material">
                <color rgba="0.647059 0.647059 0.647059 1.0" />
            </material>
        </visual>
        <collision>
            <origin rpy="-1.5708 -3.1668e-17 1.26775" xyz="-0.00826547 -0.051955 0.013" />
            <geometry>
                <mesh filename="package://ob1_arm_description/meshes/part_2_gripper_claw.stl" />
            </geometry>
            <material name="part_2_gripper_claw_material">
                <color rgba="0.647059 0.647059 0.647059 1.0" />
            </material>
        </collision>
        <visual>
            <origin rpy="1.5708 -6.24126e-18 1.52187e-17" xyz="-0.0106217 -0.0304372 0.012" />
            <geometry>
                <mesh filename="package://ob1_arm_description/meshes/part_3_gripper_claw.stl" />
            </geometry>
            <material name="part_3_gripper_claw_material">
                <color rgba="0.231373 0.380392 0.705882 1.0" />
            </material>
        </visual>
        <collision>
            <origin rpy="1.5708 -6.24126e-18 1.52187e-17" xyz="-0.0106217 -0.0304372 0.012" />
            <geometry>
                <mesh filename="package://ob1_arm_description/meshes/part_3_gripper_claw.stl" />
            </geometry>
            <material name="part_3_gripper_claw_material">
                <color rgba="0.231373 0.380392 0.705882 1.0" />
            </material>
        </collision>
        <visual>
            <origin rpy="1.5708 -8.52418e-17 -0.296946" xyz="0.022895 -0.0320261 0.037" />
            <geometry>
                <mesh filename="package://ob1_arm_description/meshes/part_1_gripper_claw.stl" />
            </geometry>
            <material name="part_1_gripper_claw_material">
                <color rgba="0.615686 0.811765 0.929412 1.0" />
            </material>
        </visual>
        <collision>
            <origin rpy="1.5708 -8.52418e-17 -0.296946" xyz="0.022895 -0.0320261 0.037" />
            <geometry>
                <mesh filename="package://ob1_arm_description/meshes/part_1_gripper_claw.stl" />
            </geometry>
            <material name="part_1_gripper_claw_material">
                <color rgba="0.615686 0.811765 0.929412 1.0" />
            </material>
        </collision>
        <inertial>
            <origin rpy="0 0 0" xyz="0 0 0" />
            <mass value="0" />
            <inertia ixx="0" ixy="0" ixz="0" iyy="0" iyz="0" izz="0" />
            eef
        </inertial>
    </link>
    <joint name="ob1_arm_gripper_lclaw_joint" type="revolute">
        <origin rpy="1.5708 -0.367452 -8.36952e-16" xyz="-0.04 0.008 -0.0535151" />
        <parent link="ob1_arm_gripper_base_link" />
        <child link="ob1_arm_lclaw_link" />
        <axis xyz="0 0 1" />
        <limit effort="1" lower="-3.14" upper="3.14" velocity="20" />
        <joint_properties friction="0.0" />
        <dynamics D="1" K="7000" damping="0.003" friction="0.0" mu_coulomb="0" mu_viscous="16" />
    </joint>
    <joint name="ob1_arm_gripper_rclaw_joint" type="revolute">
        <origin rpy="1.5708 0.450222 1.06462e-15" xyz="0.04 0.008 -0.0535151" />
        <parent link="ob1_arm_gripper_base_link" />
        <child link="ob1_arm_rclaw_link" />
        <axis xyz="0 0 1" />
        <limit effort="1" lower="-3.14" upper="3.14" velocity="20" />
        <joint_properties friction="0.0" />
        <dynamics D="1" K="7000" damping="0.003" friction="0.0" mu_coulomb="0" mu_viscous="16" />
    </joint>
    <link name="ob1_arm_eef_link">
        <inertial>
            <origin rpy="0 0 0" xyz="0 0 0" />
            <mass value="0" />
            <inertia ixx="0" ixy="0" ixz="0" iyy="0" iyz="0" izz="0" />
        </inertial>
    </link>
    <joint name="ob1_arm_gripper_eef_link" type="fixed">
        <origin rpy="0 0 0" xyz="0 0 -0.11" />
        <parent link="ob1_arm_gripper_base_link" />
        <child link="ob1_arm_eef_link" />
    </joint>
    <!-- arm - gripper joint -->
    <joint name="ob1_arm_forearm_gripper_joint" type="revolute">
        <origin rpy="-1.5708 0.278795 3.7292e-15" xyz="-2.46331e-16 -0.155 0.08285" />
        <parent link="ob1_arm_forearm_link" />
        <child link="ob1_arm_gripper_base_link" />
        <axis xyz="0 0 1" />
        <limit effort="1" lower="-3.14" upper="3.14" velocity="20" />
        <joint_properties friction="0.0" />
        <dynamics D="1" K="7000" damping="0.003" friction="0.0" mu_coulomb="0" mu_viscous="16" />
    </joint>
    <!-- connect the arm to world with fixed joint -->
    <link name="world" />
    <joint name="base" type="fixed">
        <parent link="world" />
        <child link="ob1_arm_fixed_base_link" />
    </joint>
    <transmission name="trans_ob1_arm_elbow_forearm_joint">
        <type>transmission_interface/SimpleTransmission</type>
        <joint name="ob1_arm_elbow_forearm_joint">
            <hardwareInterface>hardware_interface/EffortJointInterface</hardwareInterface>
        </joint>
        <actuator name="ob1_arm_elbow_forearm_joint_motor">
            <hardwareInterface>hardware_interface/EffortJointInterface</hardwareInterface>
            <mechanicalReduction>1</mechanicalReduction>
        </actuator>
    </transmission>
    <transmission name="trans_ob1_arm_arm_elbow_joint">
        <type>transmission_interface/SimpleTransmission</type>
        <joint name="ob1_arm_arm_elbow_joint">
            <hardwareInterface>hardware_interface/EffortJointInterface</hardwareInterface>
        </joint>
        <actuator name="ob1_arm_arm_elbow_joint_motor">
            <hardwareInterface>hardware_interface/EffortJointInterface</hardwareInterface>
            <mechanicalReduction>1</mechanicalReduction>
        </actuator>
    </transmission>
    <transmission name="trans_ob1_arm_shoulder_arm_joint">
        <type>transmission_interface/SimpleTransmission</type>
        <joint name="ob1_arm_shoulder_arm_joint">
            <hardwareInterface>hardware_interface/EffortJointInterface</hardwareInterface>
        </joint>
        <actuator name="ob1_arm_shoulder_arm_joint_motor">
            <hardwareInterface>hardware_interface/EffortJointInterface</hardwareInterface>
            <mechanicalReduction>1</mechanicalReduction>
        </actuator>
    </transmission>
    <transmission name="trans_ob1_arm_base_shoulder_joint">
        <type>transmission_interface/SimpleTransmission</type>
        <joint name="ob1_arm_base_shoulder_joint">
            <hardwareInterface>hardware_interface/EffortJointInterface</hardwareInterface>
        </joint>
        <actuator name="ob1_arm_base_shoulder_joint_motor">
            <hardwareInterface>hardware_interface/EffortJointInterface</hardwareInterface>
            <mechanicalReduction>1</mechanicalReduction>
        </actuator>
    </transmission>
    <transmission name="trans_ob1_arm_fixed_base_joint">
        <type>transmission_interface/SimpleTransmission</type>
        <joint name="ob1_arm_fixed_base_joint">
            <hardwareInterface>hardware_interface/EffortJointInterface</hardwareInterface>
        </joint>
        <actuator name="ob1_arm_fixed_base_joint_motor">
            <hardwareInterface>hardware_interface/EffortJointInterface</hardwareInterface>
            <mechanicalReduction>1</mechanicalReduction>
        </actuator>
    </transmission>
    <transmission name="trans_ob1_arm_gripper_lclaw_joint">
        <type>transmission_interface/SimpleTransmission</type>
        <joint name="ob1_arm_gripper_lclaw_joint">
            <hardwareInterface>hardware_interface/EffortJointInterface</hardwareInterface>
        </joint>
        <actuator name="ob1_arm_gripper_lclaw_joint_motor">
            <hardwareInterface>hardware_interface/EffortJointInterface</hardwareInterface>
            <mechanicalReduction>1</mechanicalReduction>
        </actuator>
    </transmission>
    <transmission name="trans_ob1_arm_gripper_rclaw_joint">
        <type>transmission_interface/SimpleTransmission</type>
        <joint name="ob1_arm_gripper_rclaw_joint">
            <hardwareInterface>hardware_interface/EffortJointInterface</hardwareInterface>
        </joint>
        <actuator name="ob1_arm_gripper_rclaw_joint_motor">
            <hardwareInterface>hardware_interface/EffortJointInterface</hardwareInterface>
            <mechanicalReduction>1</mechanicalReduction>
        </actuator>
    </transmission>
    <transmission name="trans_ob1_arm_forearm_gripper_joint">
        <type>transmission_interface/SimpleTransmission</type>
        <joint name="ob1_arm_forearm_gripper_joint">
            <hardwareInterface>hardware_interface/EffortJointInterface</hardwareInterface>
        </joint>
        <actuator name="ob1_arm_forearm_gripper_joint_motor">
            <hardwareInterface>hardware_interface/EffortJointInterface</hardwareInterface>
            <mechanicalReduction>1</mechanicalReduction>
        </actuator>
    </transmission>
    <gazebo>
        <plugin name="gazebo_ros_control">
            <robotNamespace>/</robotNamespace>
        </plugin>
    </gazebo>
</robot>
